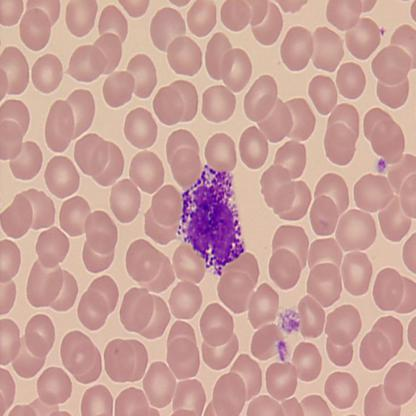Basophil: (175, 162, 248, 280)
